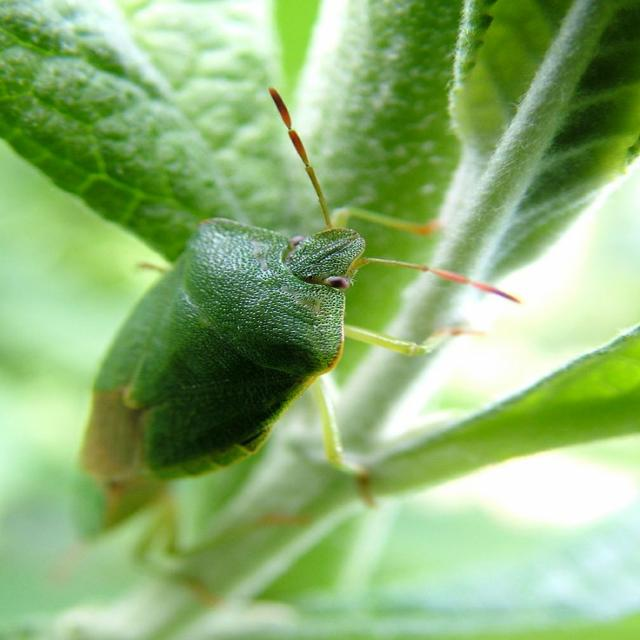stink_bug: (65, 97, 500, 527)
